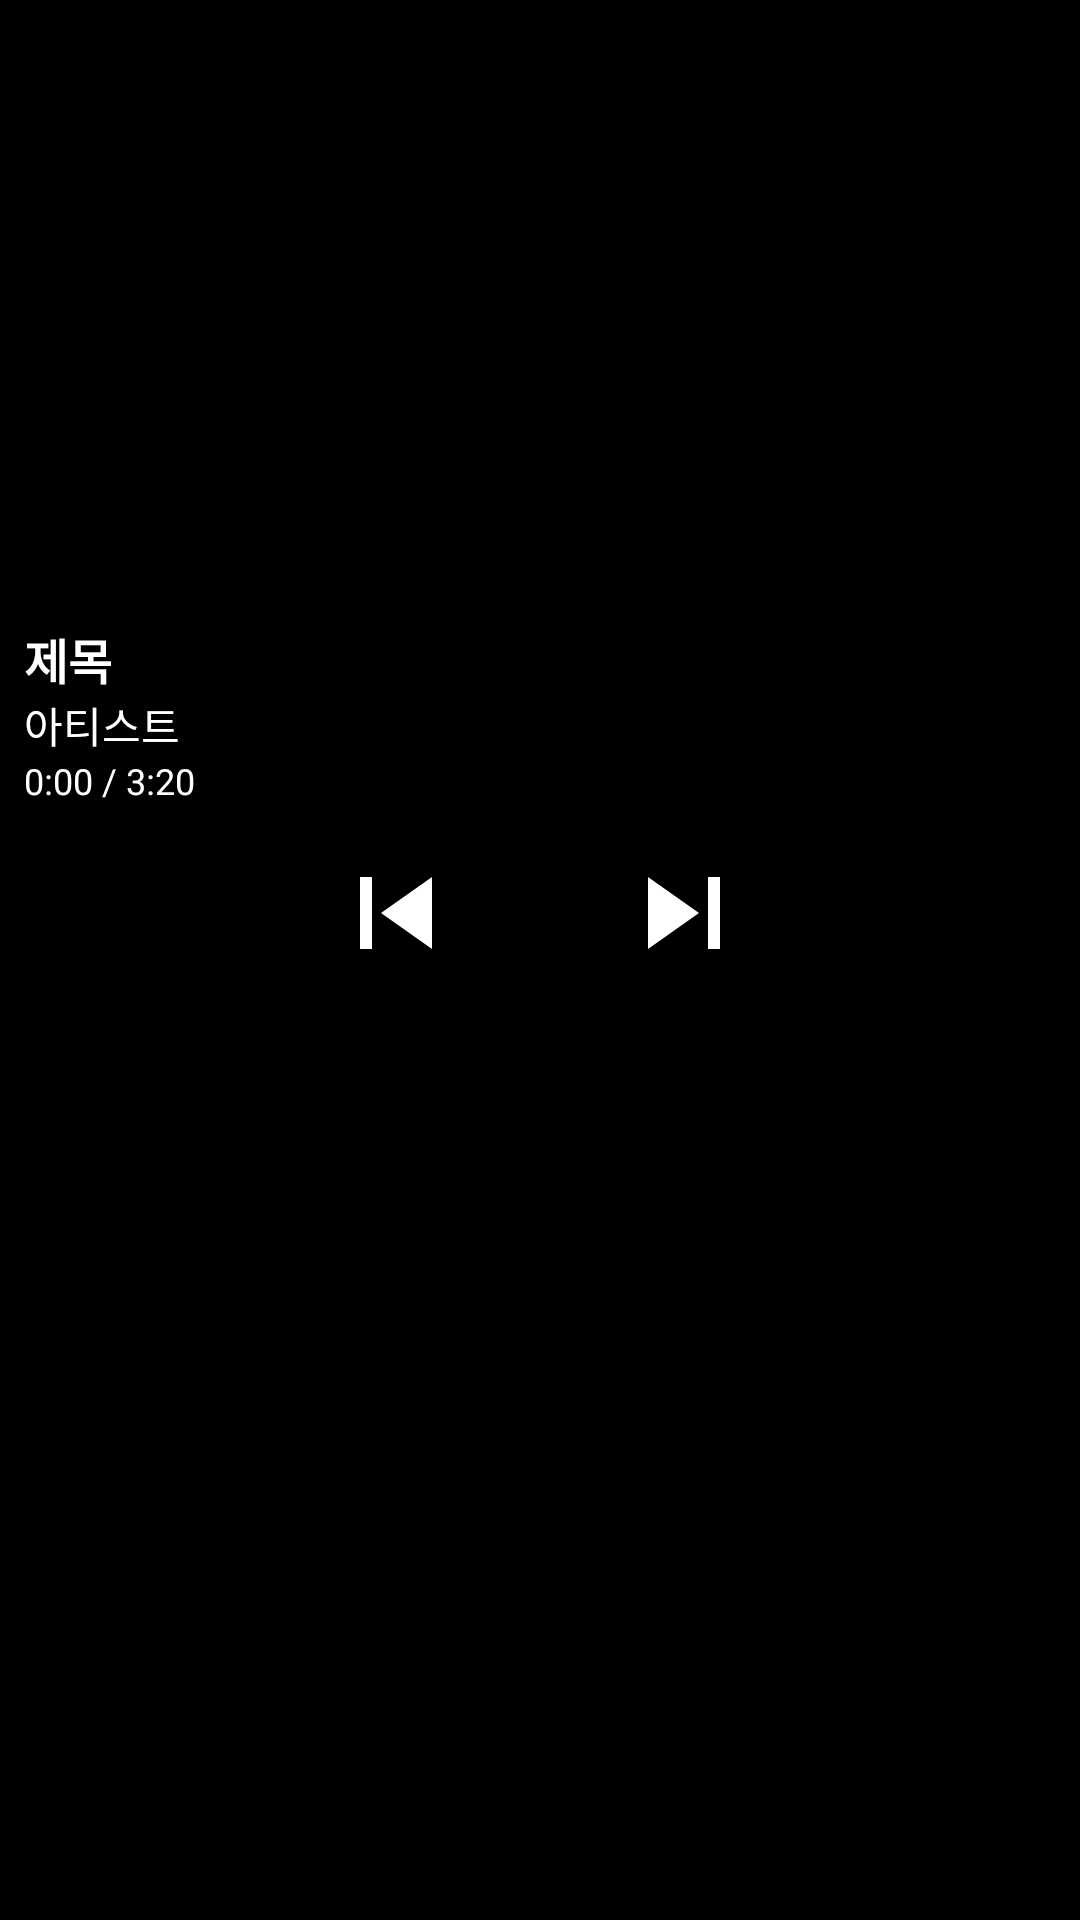

Point at icon controls on the screen. Image size 1080 x 1920, points as point (x, y).
다음 곡: point (684, 913)
이전 곡: point (396, 913)
